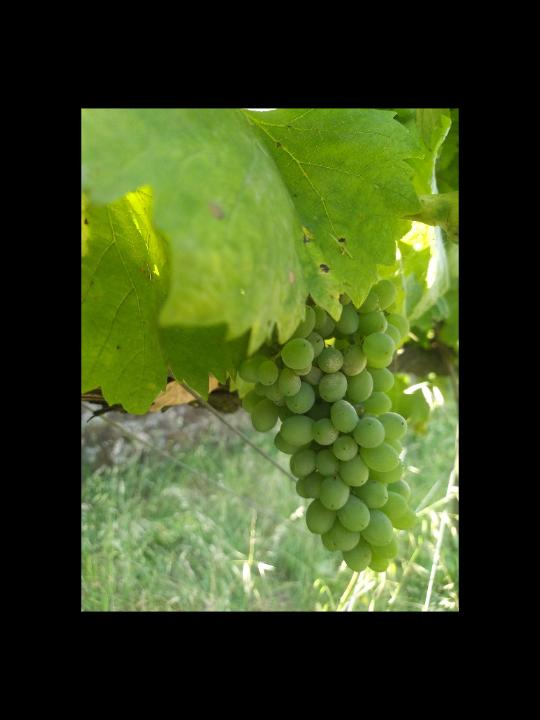grape: (234, 277, 422, 578)
